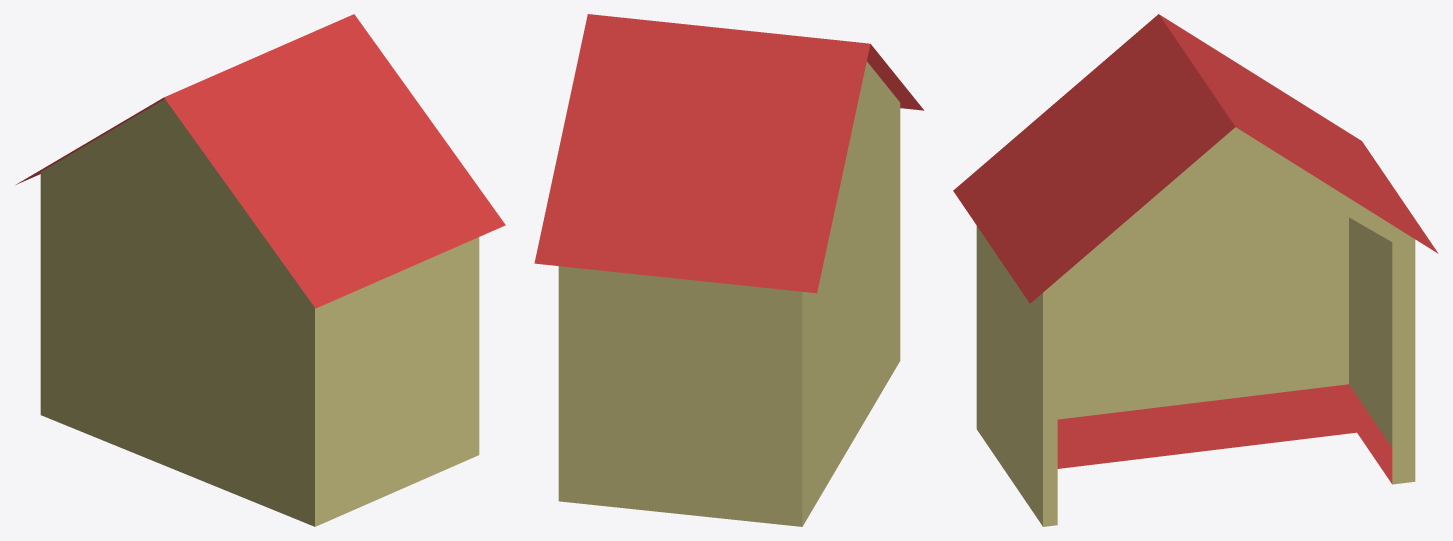
The picture shows the model from 3 angles, left to right: view 1: azimuth 30°, elevation 25°; view 2: azimuth 150°, elevation 25°; view 3: azimuth 270°, elevation 25°; orthographic projection. The views are drawn at different scales.
Bounding box in the file's own units: 10.05 × 12.68 × 11.09.
